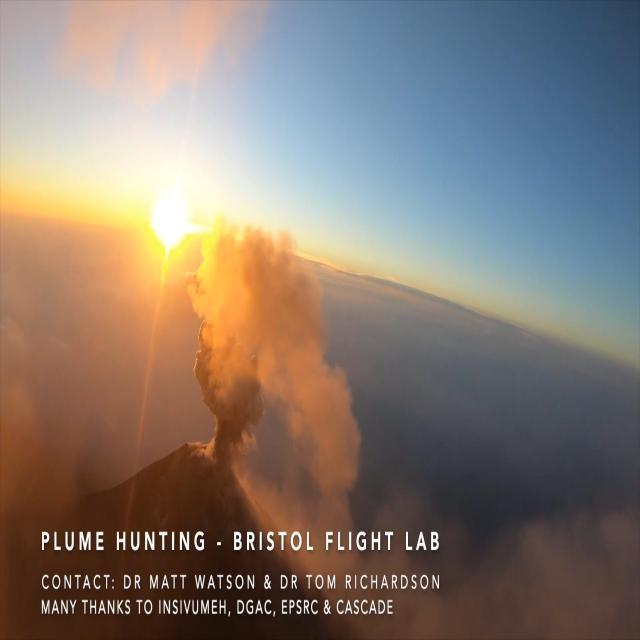Plume: (188, 205, 362, 490), (192, 310, 270, 433)
Summit: (85, 435, 304, 530)
